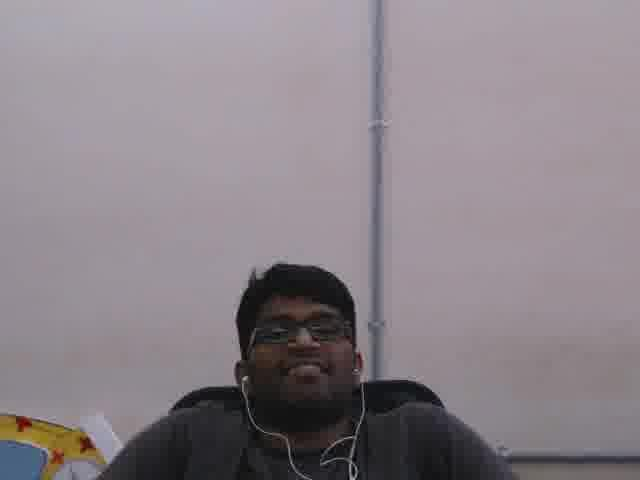bosan: (249, 289, 349, 401)
